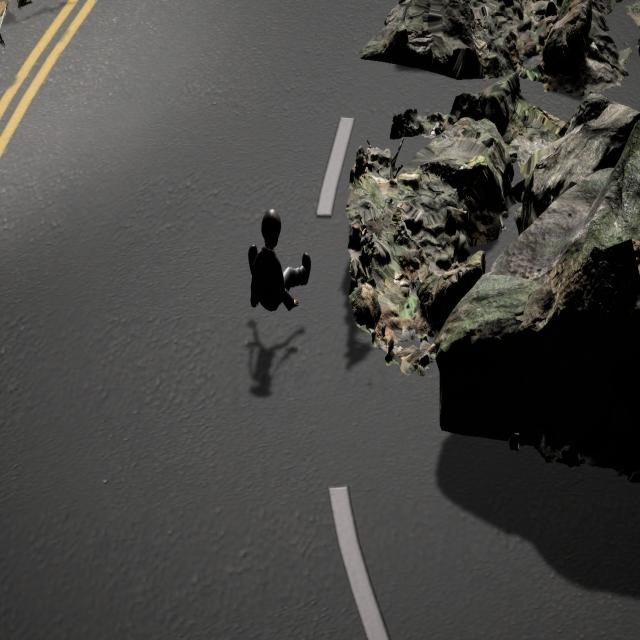Human: (248, 200, 316, 316)
